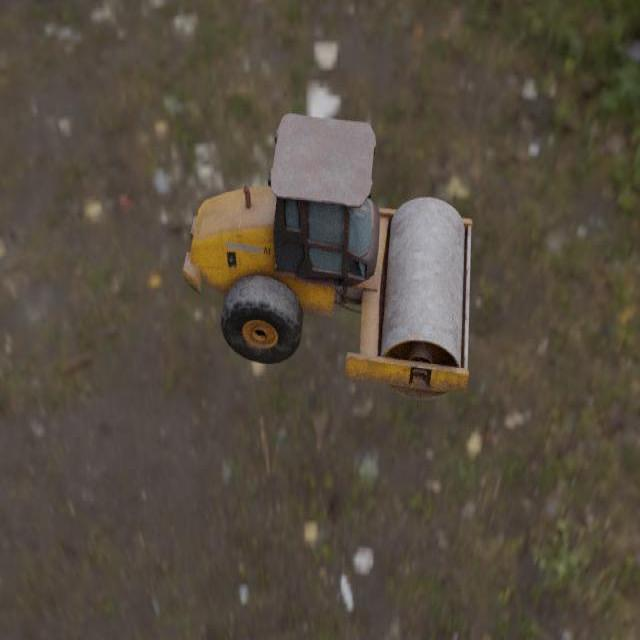Roller: (182, 112, 472, 400)
